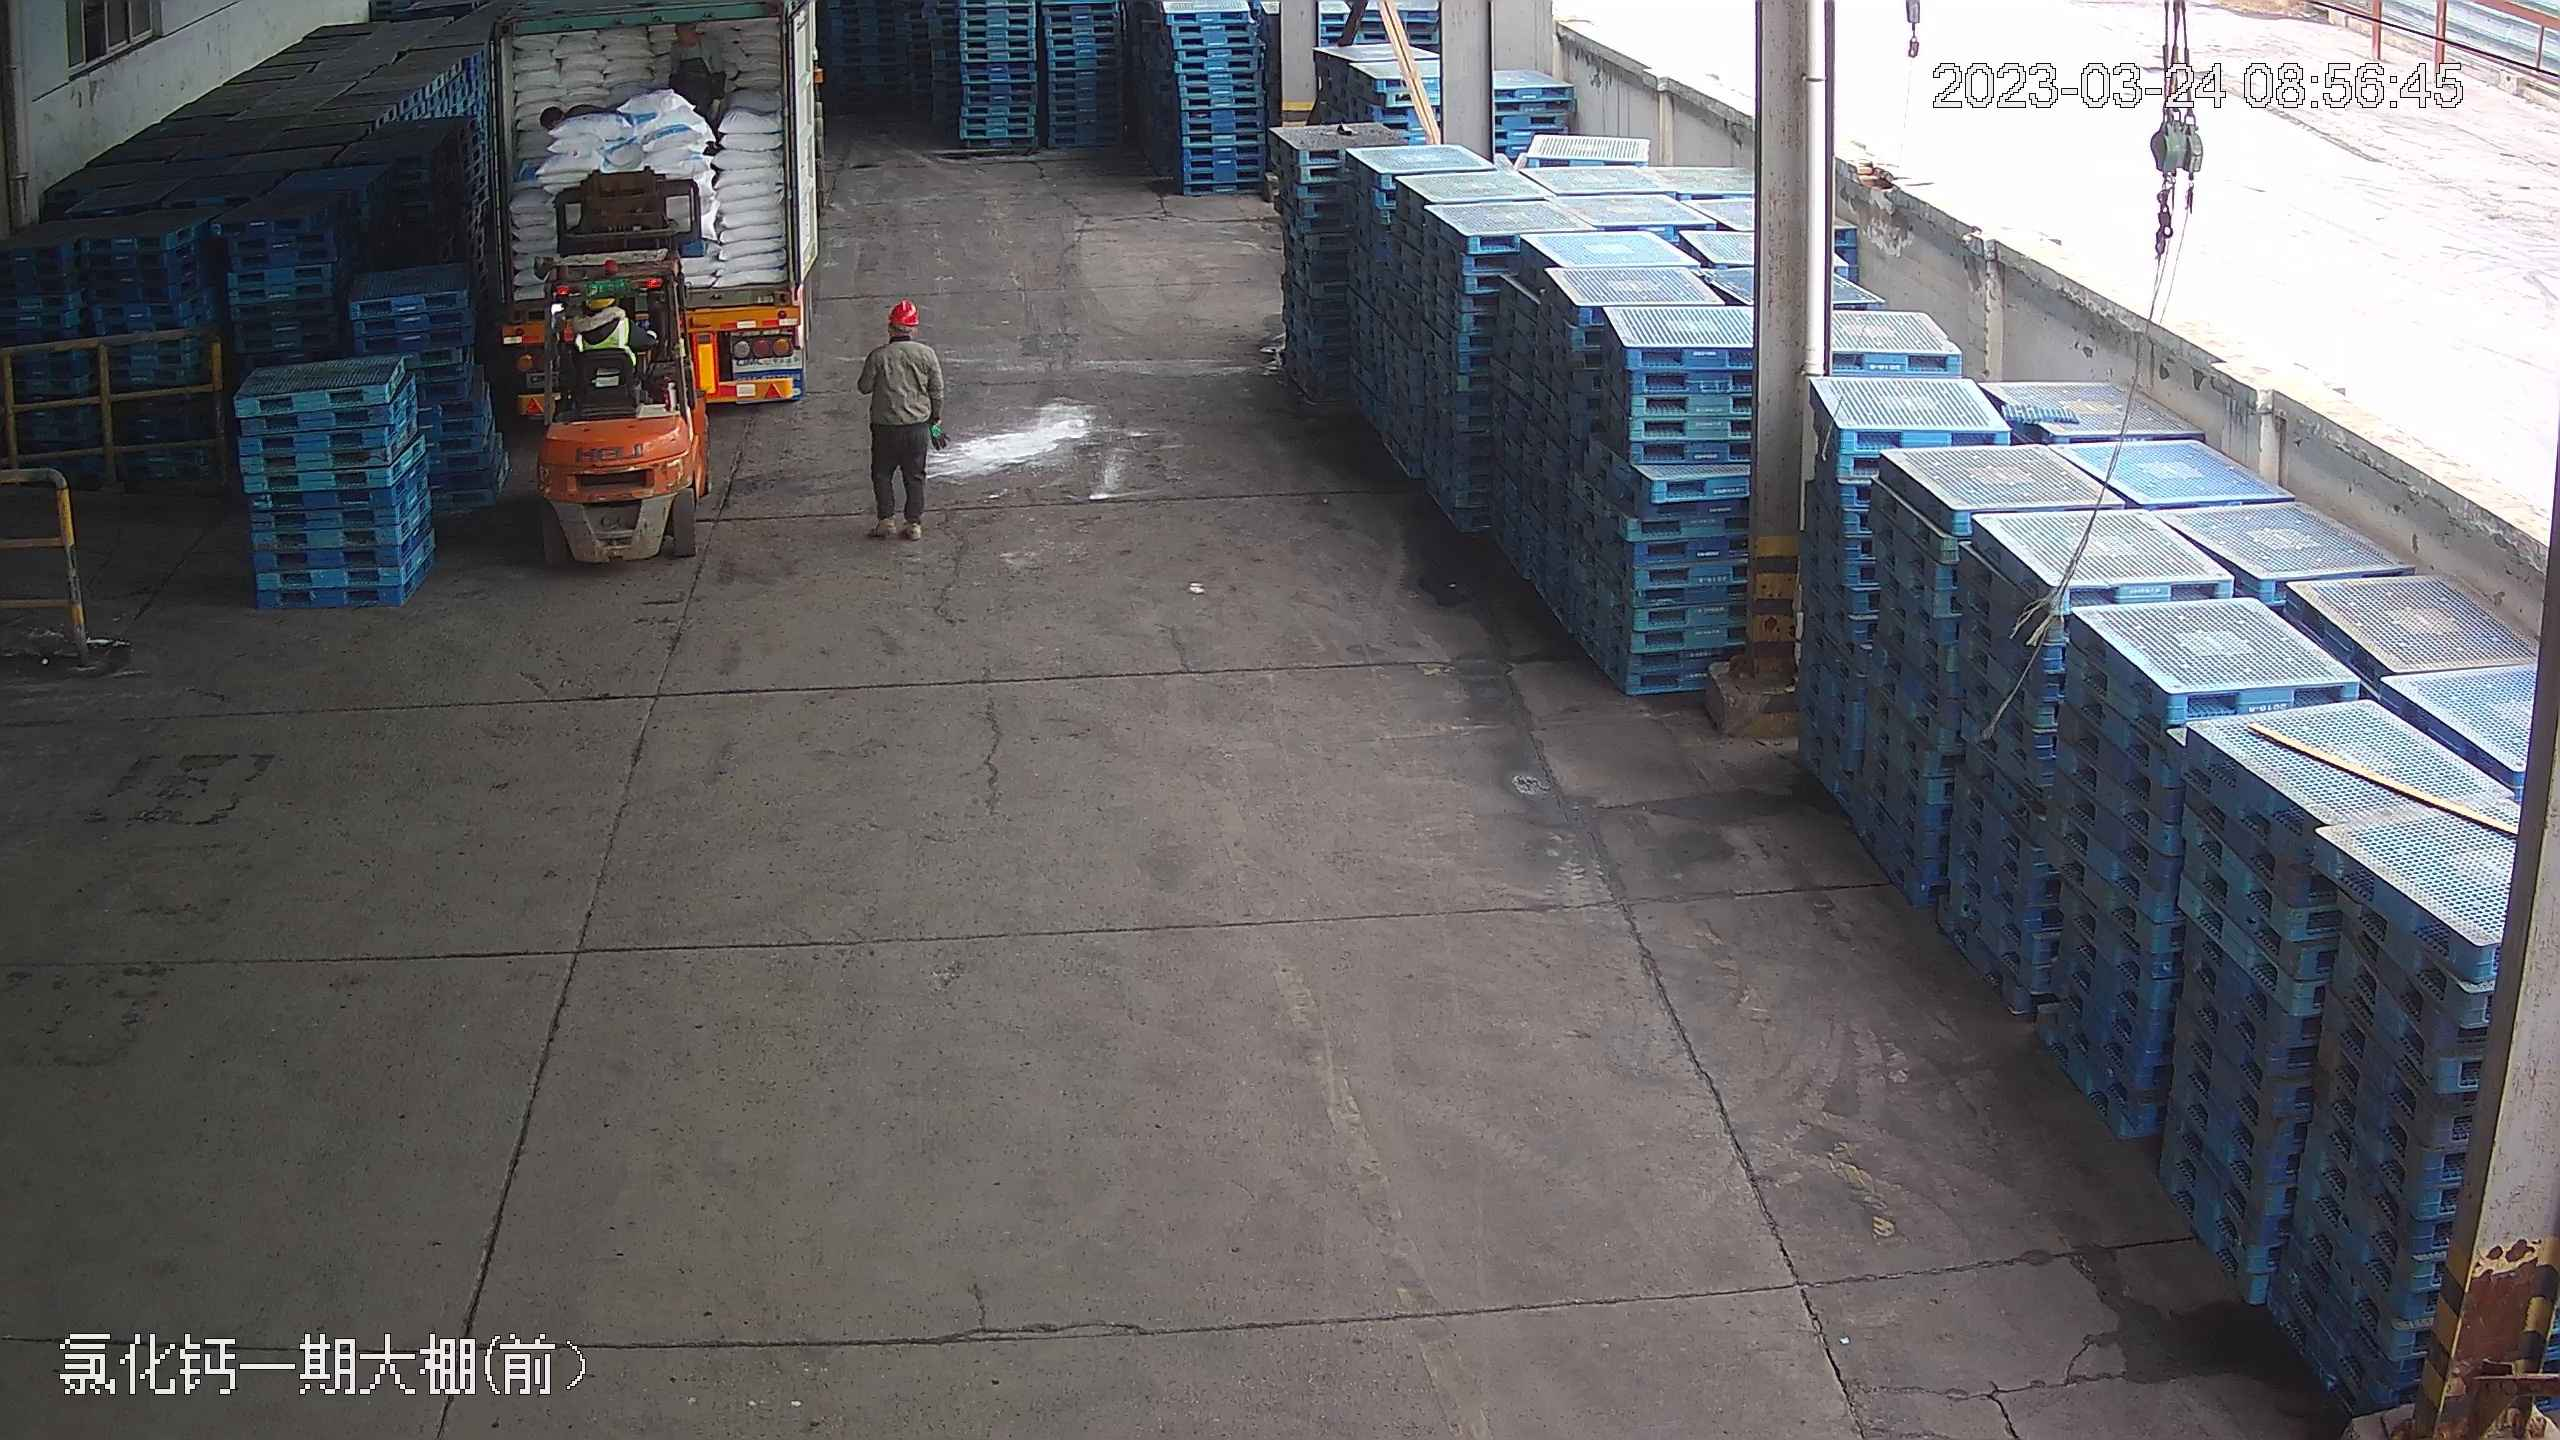head: (864, 297, 939, 371), (666, 20, 721, 70)
helmet: (884, 296, 920, 323)
people: (857, 294, 943, 543), (668, 18, 728, 128)
truck: (476, 2, 841, 422)
